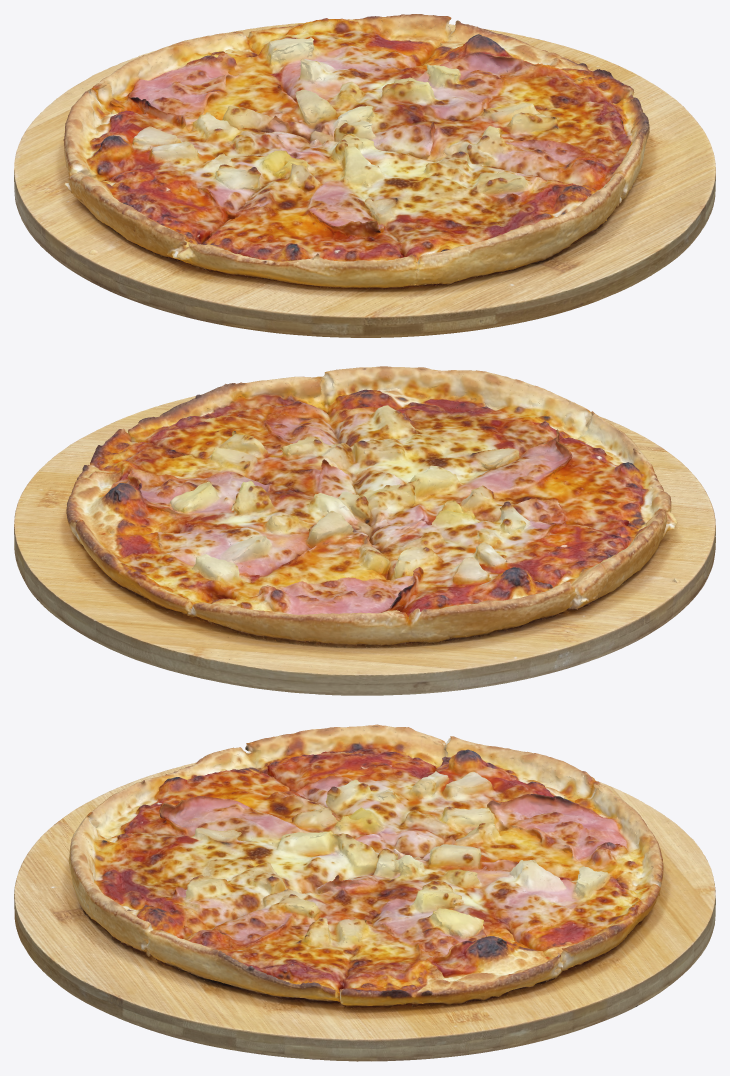
The model's file is about.glb.
3 renders of one model, top to bottom at view 1: azimuth 30°, elevation 25°; view 2: azimuth 150°, elevation 25°; view 3: azimuth 270°, elevation 25°, orthographic.
Visible parts, largest first — view 1: Object_2, Object_3; view 2: Object_2, Object_3; view 3: Object_2, Object_3.
Part boxes in pixels (<box>): Object_2: <box>14,14,715,337</box>; Object_3: <box>60,17,715,337</box>; Object_2: <box>14,374,715,695</box>; Object_3: <box>14,366,674,695</box>; Object_2: <box>14,724,715,1061</box>; Object_3: <box>14,771,714,1060</box>.
Size of the model in its own units: 0.6154 by 0.0633 by 0.6162.
Materials: 1 (1 with a texture image).
